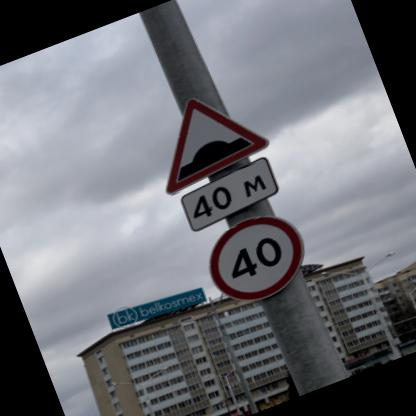speedlimit: (193, 202, 315, 314)
